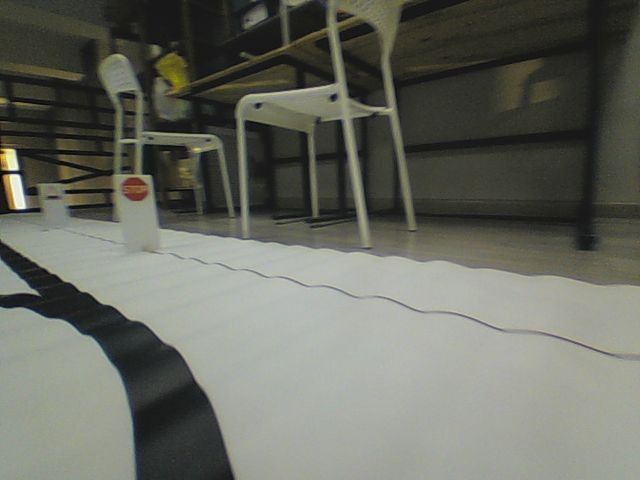Stop: (122, 176, 149, 201)
